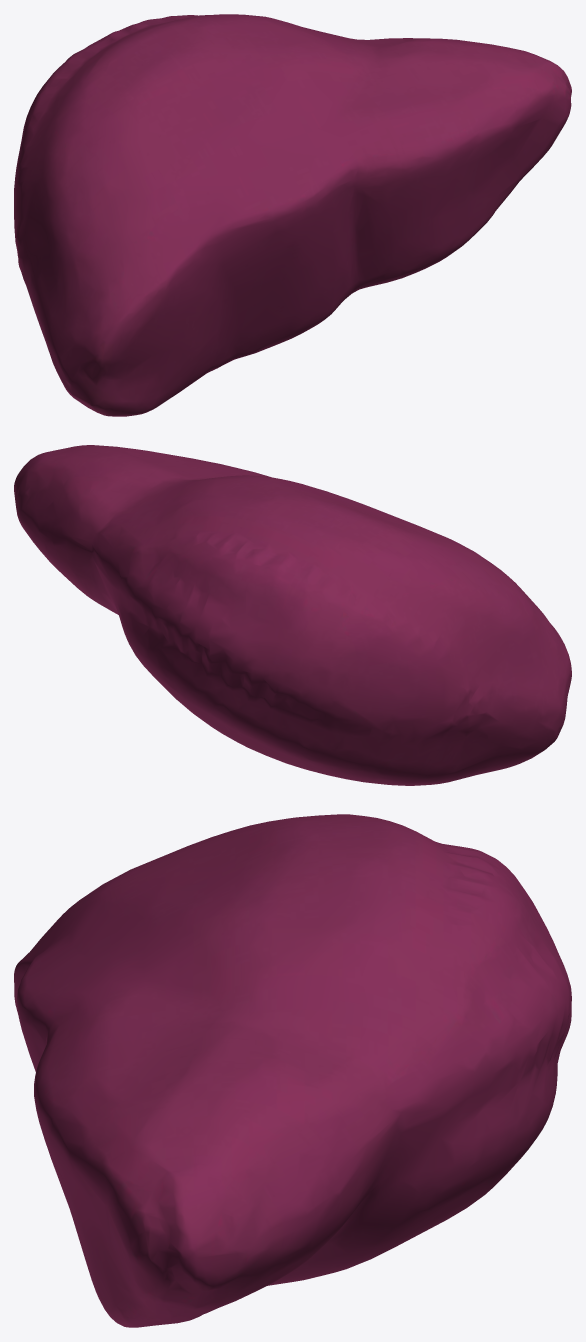
Rendered from figado.glb.
3 renders of one model, top to bottom at view 1: azimuth 30°, elevation 25°; view 2: azimuth 150°, elevation 25°; view 3: azimuth 270°, elevation 25°, orthographic. The views are drawn at different scales.
Parts seen in each view (by area): view 1: corpo; view 2: corpo; view 3: corpo.
Boxes of the visible parts, <box> form: corpo: <box>14,14,571,416</box>; corpo: <box>14,445,571,785</box>; corpo: <box>14,814,571,1327</box>.
Bounding box in the file's own units: 0.9799 × 0.5102 × 0.5658.
1 material, 1 textured.
